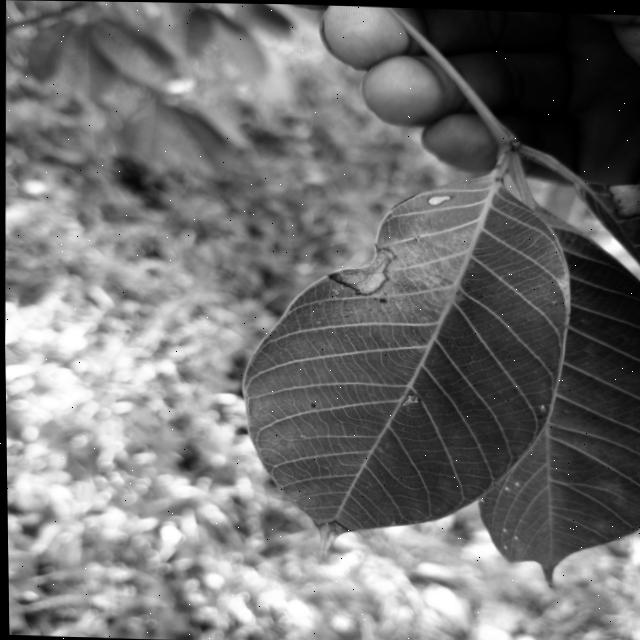Colletotrichum: (309, 402, 315, 407)
Leaf-Blight: (325, 241, 395, 295), (312, 517, 354, 556), (605, 181, 640, 218), (426, 193, 450, 205)
